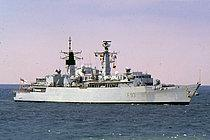MIL_Ship: (12, 36, 204, 105)
